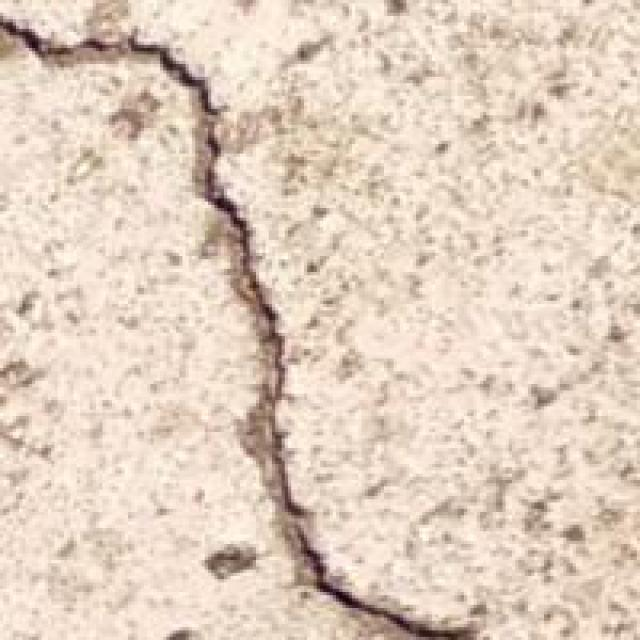Crack: (0, 2, 477, 635)
